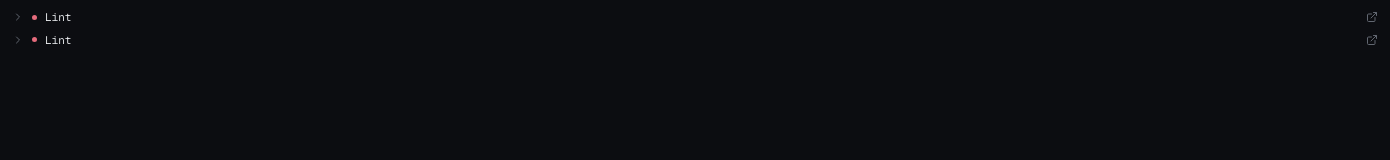
Scenario: FailingChecks › expands only the clicked check
This screenshot has width=1390, height=160.
Click the 1st button "Lint" at {"x": 18, "y": 17}, box [12,9,1358,26]
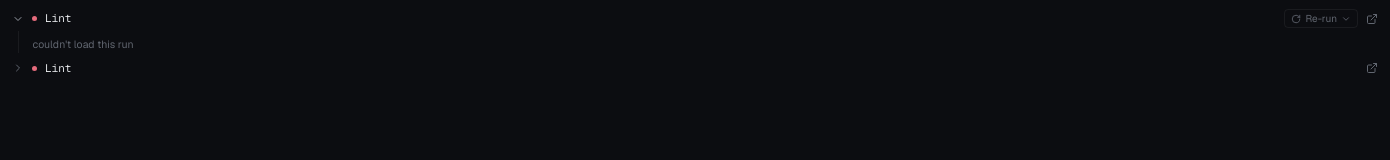
Result: the number of elements with test id "run-panel" is 1 at [18,31,1378,53]
